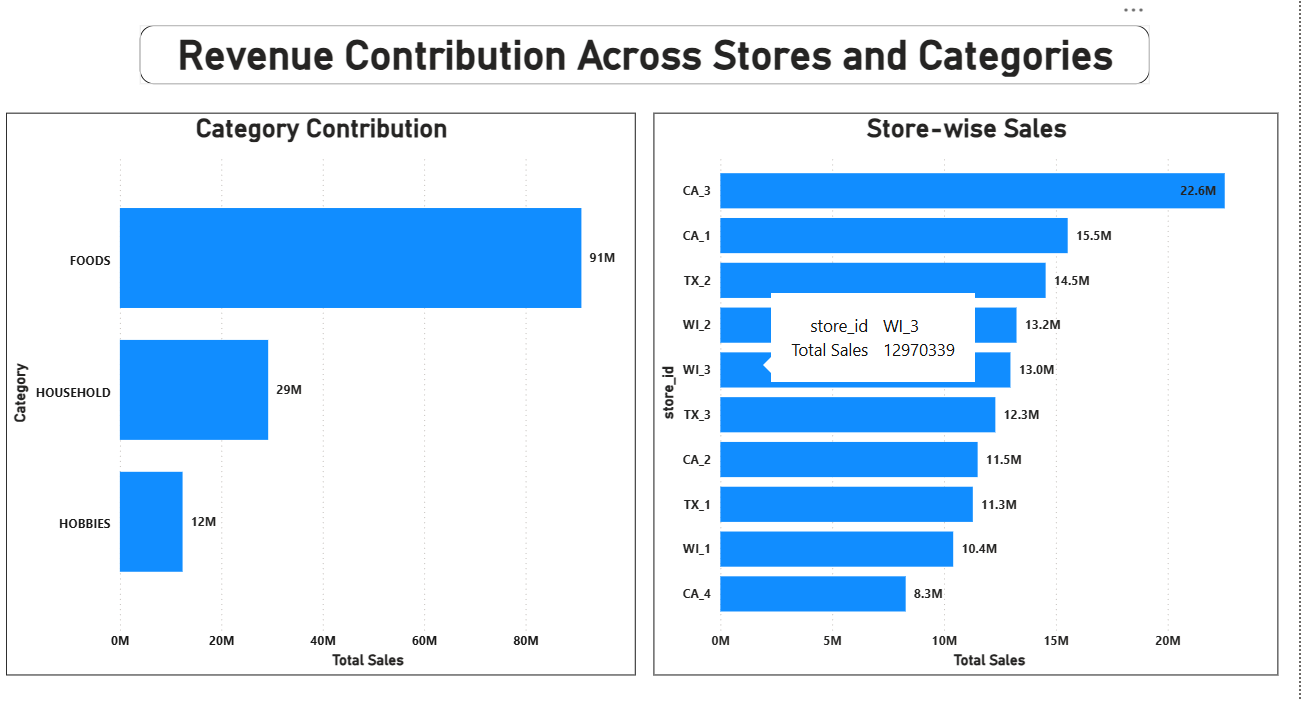

This screenshot's page, from the dashboard's own definition file:
{"tool":"powerbi","page":{"name":"Store & Category Performance","canvas":[1280,720],"ordinal":1},"visuals":[{"type":"barChart","title":"Store-wise Sales","fields":{"Category":["clean_sales_data.store_id"],"Y":["clean_sales_data.Total Sales"]},"box":[648.1,126,611.4,550.3],"z":0},{"type":"barChart","title":"Category Contribution","fields":{"Category":["clean_sales_data.cat_id"],"Y":["clean_sales_data.Total Sales"]},"box":[14.7,126,616.3,550.3],"z":1000},{"type":"textbox","title":"Revenue Contribution Across Stores and Categories","box":[145.5,40.4,988,57.5],"z":2000}]}

Visuals, with their boxes on the page's 1280x720 design canvas (x1, y1, x2, y2). These are canvas units, not pixel positions in the 1301x701 screenshot, which may show the page scaled, cropped or inside an application window:
"Store-wise Sales" barChart: l=648, t=126, r=1260, b=676
"Category Contribution" barChart: l=15, t=126, r=631, b=676
"Revenue Contribution Across Stores and Categories" textbox: l=146, t=40, r=1134, b=98
